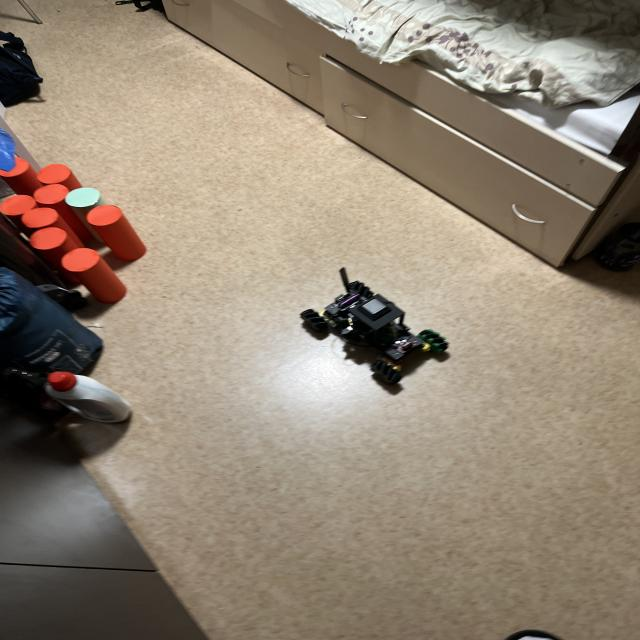robot: (301, 268, 448, 384)
